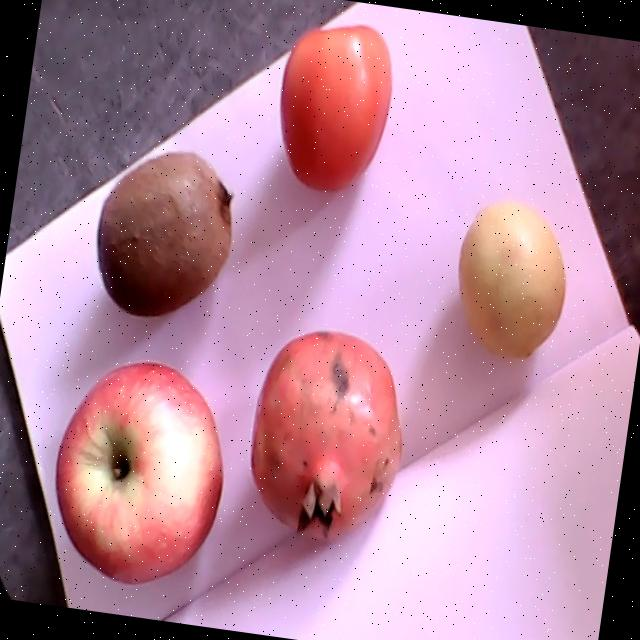apple: (57, 363, 222, 584)
kiwi: (98, 151, 233, 317)
lemon: (458, 205, 565, 358)
pomegranate: (250, 333, 402, 541)
tomato: (281, 24, 392, 193)
